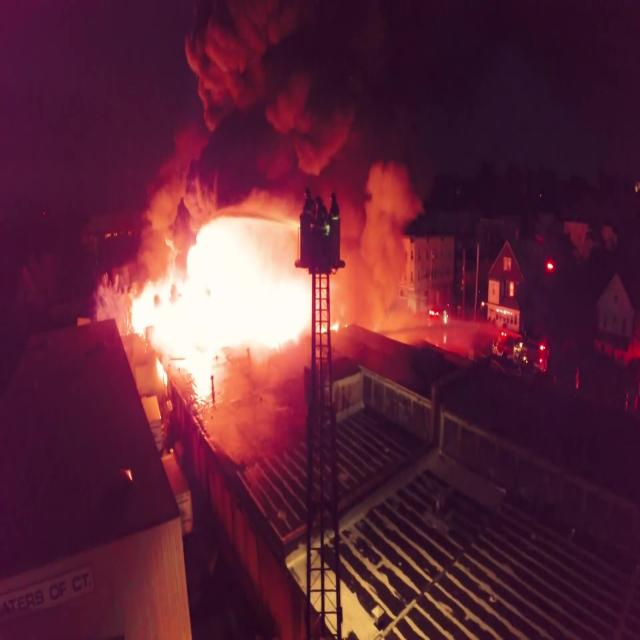Fire: (134, 201, 342, 400)
Smoke: (128, 0, 460, 350)
